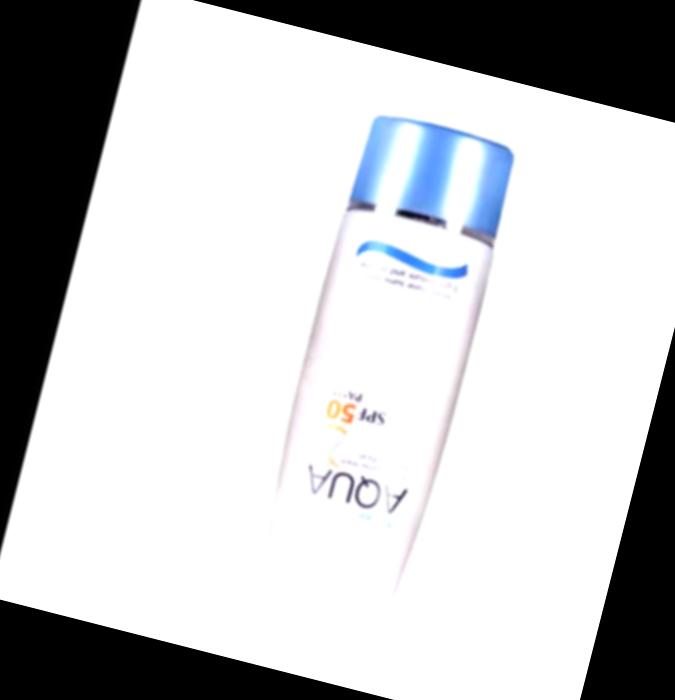cosmetic: (236, 107, 521, 638)
